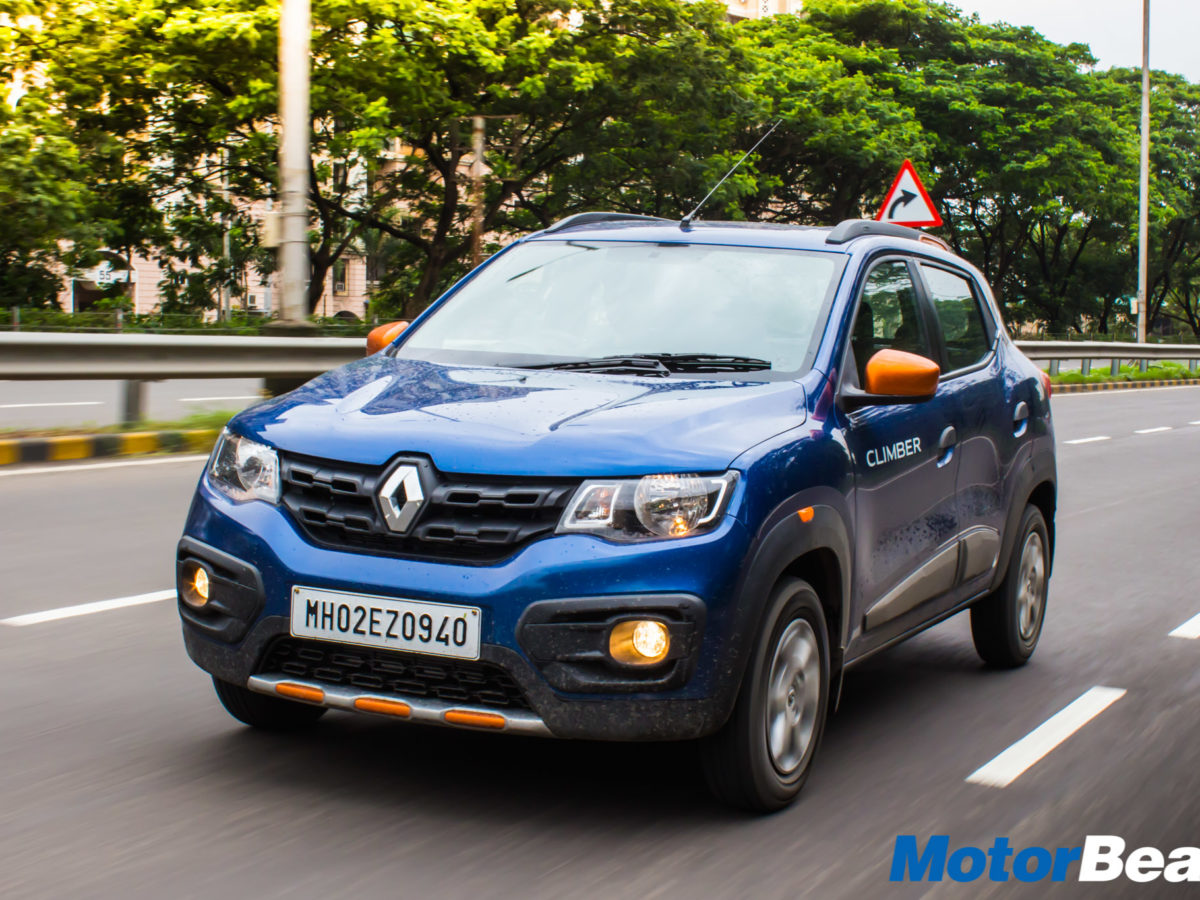numberplate: (290, 581, 481, 666)
